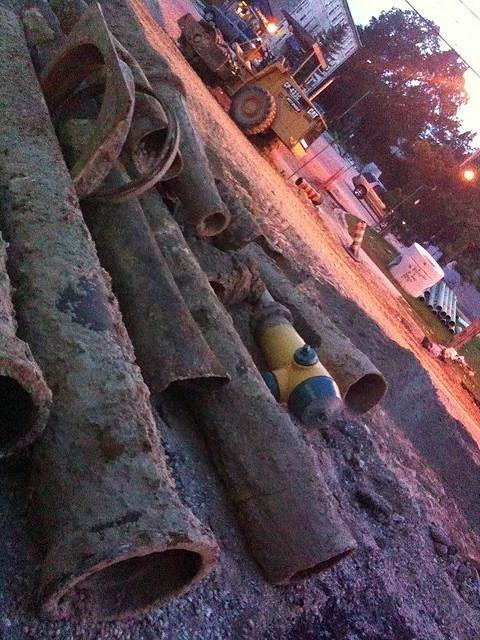car: (206, 2, 262, 40), (351, 170, 388, 220)
